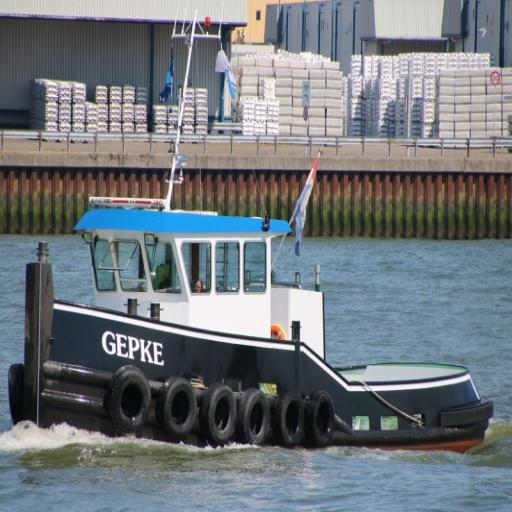tugboat: (6, 186, 499, 467)
